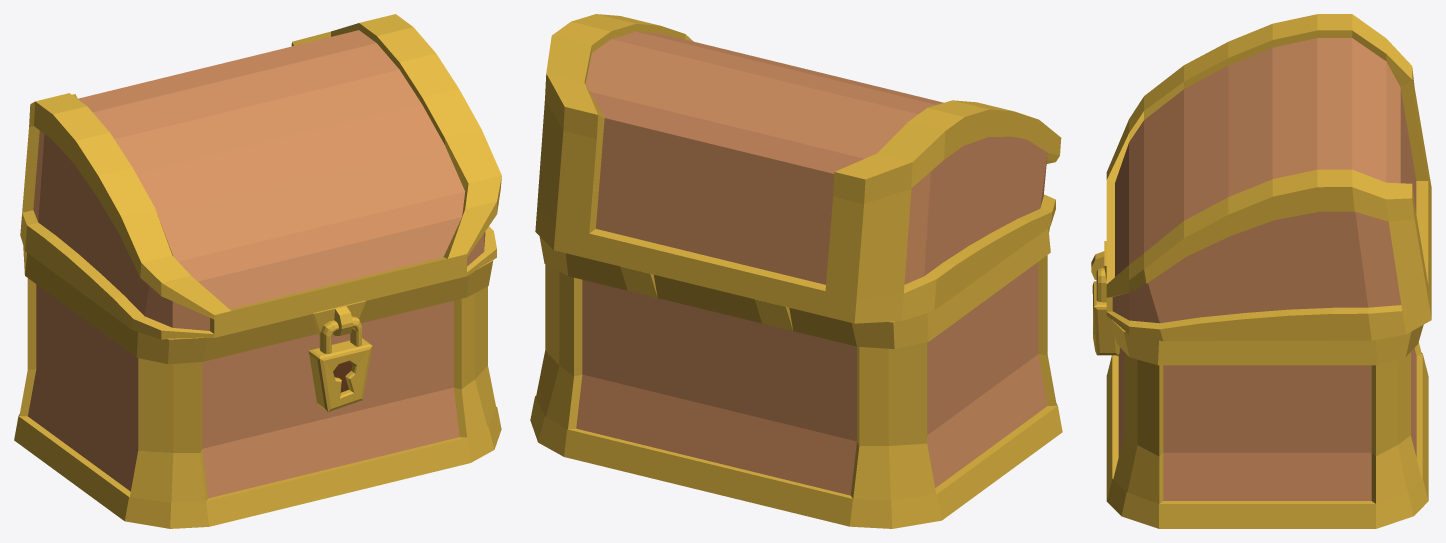
File: Chest.fbx
3 renders of one model, left to right at view 1: azimuth 30°, elevation 25°; view 2: azimuth 150°, elevation 25°; view 3: azimuth 270°, elevation 25°, orthographic. The views are drawn at different scales.
Visible parts, largest first — view 1: Lid, Chest, Lock; view 2: Lid, Chest; view 3: Lid, Chest, Lock.
Part boxes in pixels (x1,y1,x2,y2): Lid: [20, 14, 501, 339]; Chest: [14, 246, 501, 528]; Lock: [308, 316, 372, 411]; Lid: [535, 14, 1061, 323]; Chest: [530, 227, 1062, 528]; Lid: [1106, 14, 1431, 341]; Chest: [1091, 241, 1428, 528]; Lock: [1092, 268, 1119, 355].
Size of the model in its own units: 186 by 163 by 149.
Materials: 4 (4 with a texture image).
